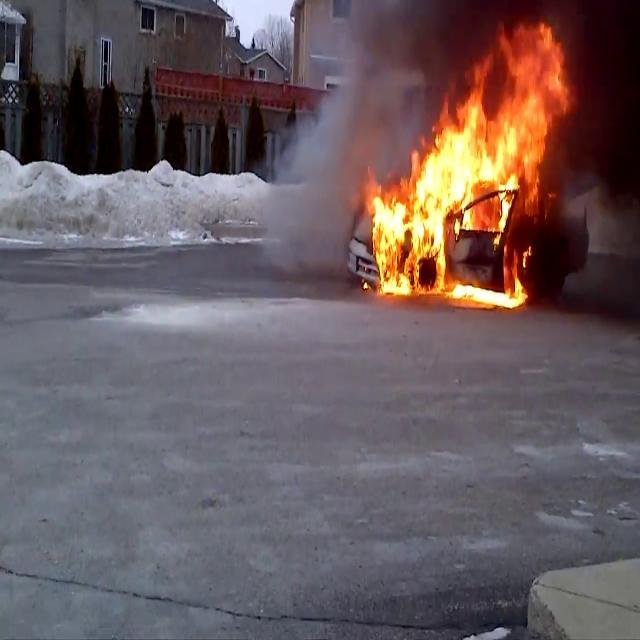Fire: (362, 15, 576, 308)
Smoke: (267, 0, 464, 206), (543, 0, 640, 307)
